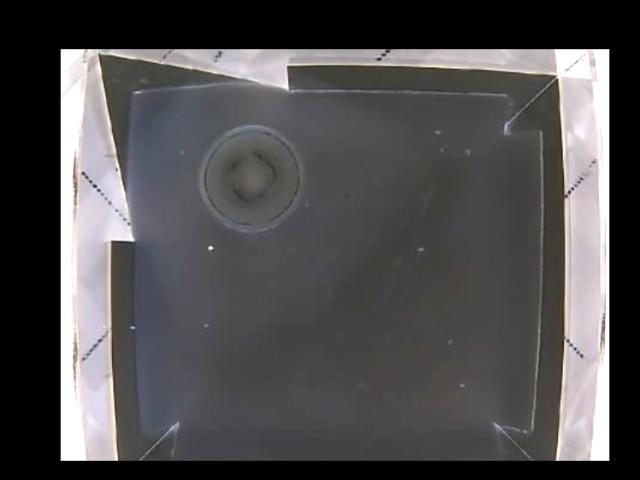Bottle: (200, 122, 304, 236)
